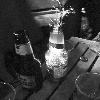beer: (10, 29, 45, 95)
